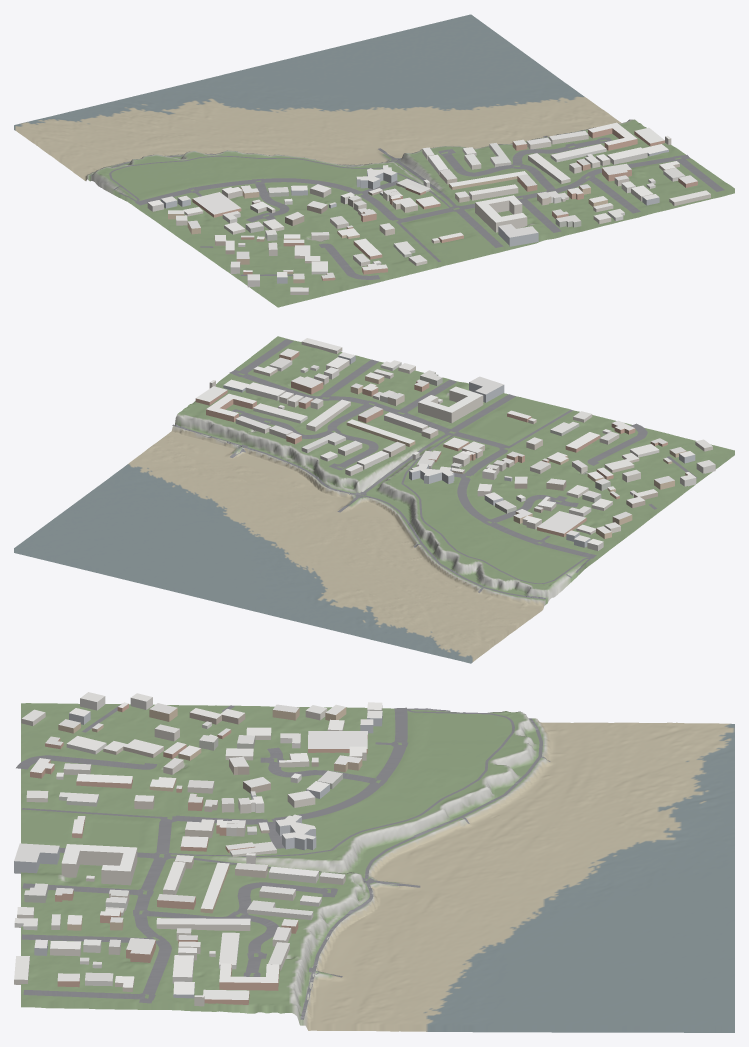
3 views of the same model, one above another, from view 1: azimuth 30°, elevation 25°; view 2: azimuth 150°, elevation 25°; view 3: azimuth 270°, elevation 25° (orthographic). The views are drawn at different scales.
Visible parts, largest first — view 1: prim0, prim1, prim2; view 2: prim0, prim1, prim2; view 3: prim0, prim1, prim2.
Boxes of the visible parts, x1,y1,x2,y2 form: prim0: (14, 14, 734, 307); prim1: (147, 122, 710, 294); prim2: (90, 136, 724, 279); prim0: (14, 336, 734, 663); prim1: (195, 338, 715, 550); prim2: (172, 339, 696, 599); prim0: (21, 703, 734, 1032); prim1: (14, 692, 382, 1006); prim2: (16, 704, 550, 1019).
Size of the model in its own units: 520 by 33.46 by 517.
